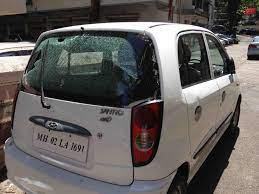Rear-windscreen-Damage: (15, 31, 168, 112)
